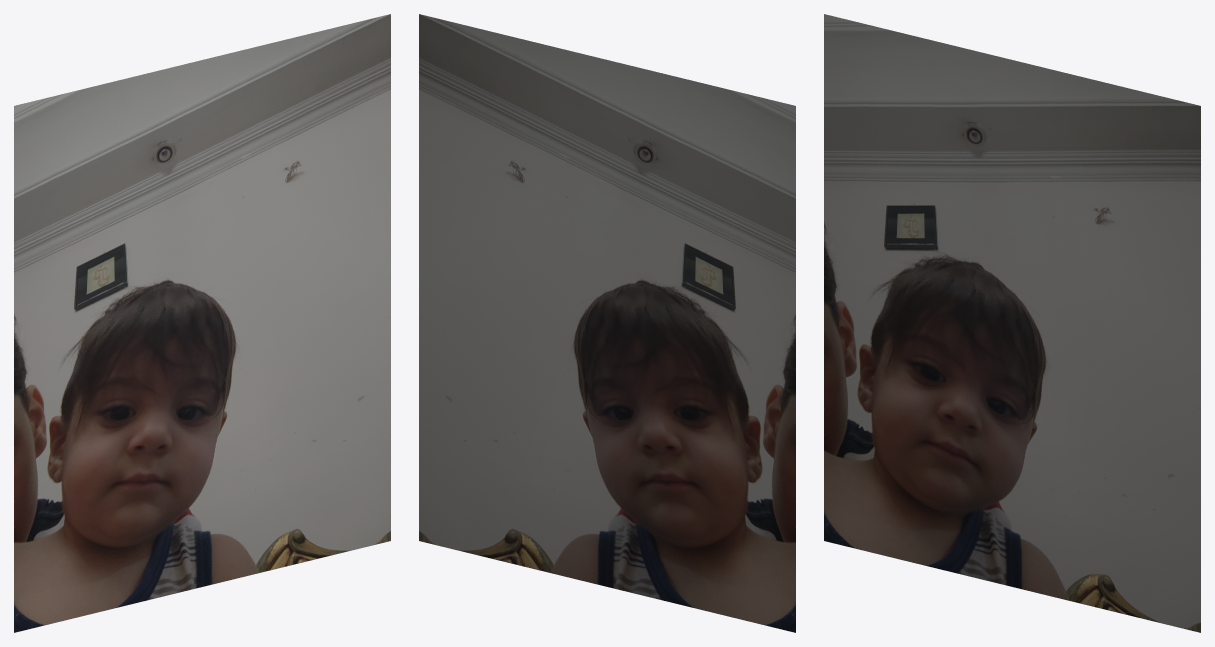
File: chaman.glb
3 views of the same model, side by side, from view 1: azimuth 30°, elevation 25°; view 2: azimuth 150°, elevation 25°; view 3: azimuth 330°, elevation 25° (orthographic).
Visible parts, largest first — view 1: Background Mesh; view 2: Background Mesh; view 3: Background Mesh.
Part boxes in pixels (box(x1,y1,x2,y2)): Background Mesh: box(14, 14, 390, 632); Background Mesh: box(419, 14, 795, 632); Background Mesh: box(824, 14, 1200, 632).
Bounding box in the file's own units: 0.7485 × 1 × 0.
Materials: 1 (1 with a texture image).
